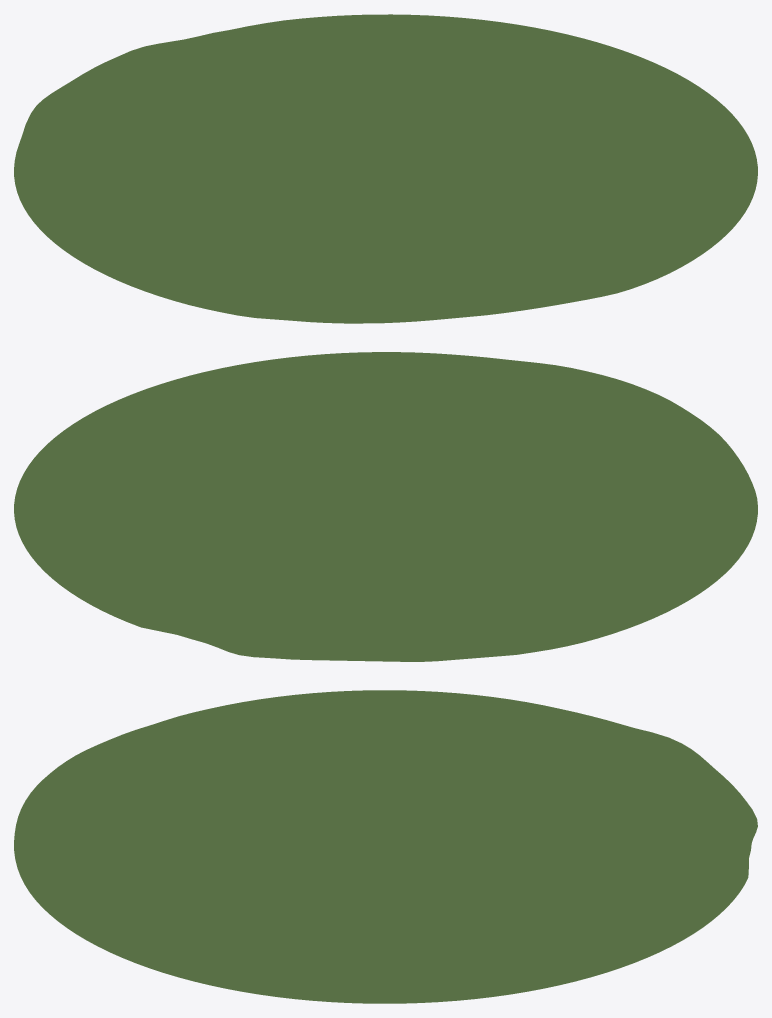
File: platform.glb
3 views of the same model, one above another, from view 1: azimuth 30°, elevation 25°; view 2: azimuth 150°, elevation 25°; view 3: azimuth 270°, elevation 25° (orthographic).
Visible parts, largest first — view 1: Circle; view 2: Circle; view 3: Circle.
Boxes of the visible parts, bbox=[...] form: Circle: bbox=[14, 14, 757, 323]; Circle: bbox=[14, 352, 757, 661]; Circle: bbox=[14, 690, 757, 1003].
Size of the model in its own units: 80 by 0.9319 by 80.2.
